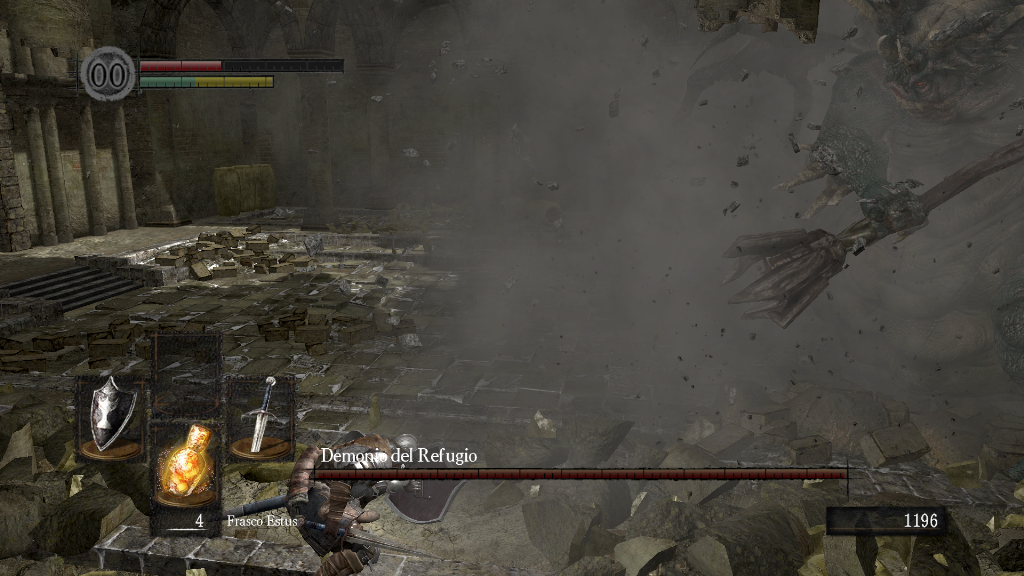bossHP: (314, 469, 847, 479)
health: (138, 58, 343, 71)
humanity: (80, 45, 136, 102)
player: (285, 432, 466, 576)
souls: (825, 506, 945, 536)
stamina: (138, 74, 274, 88)
